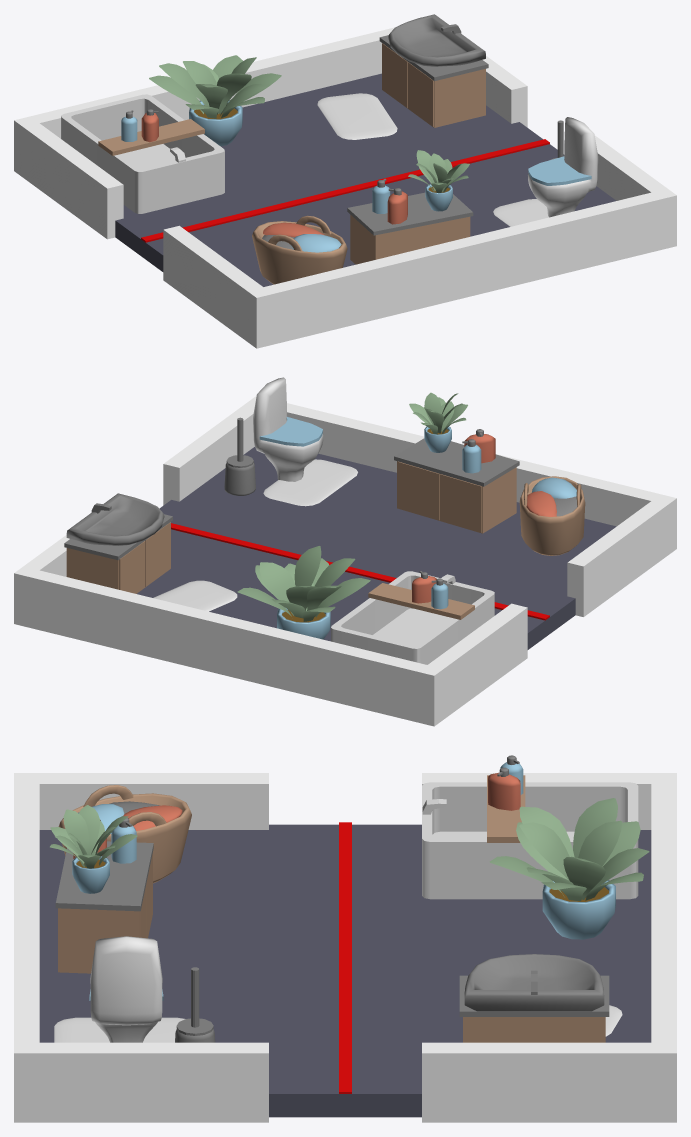
The model's file is I_SalleDeBain_Classique.fbx.
The picture shows the model from 3 angles, top to bottom: view 1: azimuth 30°, elevation 25°; view 2: azimuth 150°, elevation 25°; view 3: azimuth 270°, elevation 25°; orthographic projection. The views are drawn at different scales.
Parts seen in each view (by area): view 1: I_SalleDeBain_Classique; view 2: I_SalleDeBain_Classique; view 3: I_SalleDeBain_Classique.
Boxes of the visible parts, left/top/right/bottom form: I_SalleDeBain_Classique: left=14, top=14, right=676, bottom=348; I_SalleDeBain_Classique: left=14, top=377, right=676, bottom=726; I_SalleDeBain_Classique: left=14, top=755, right=676, bottom=1122.
Bounding box in the file's own units: 26 × 7.16 × 26.
